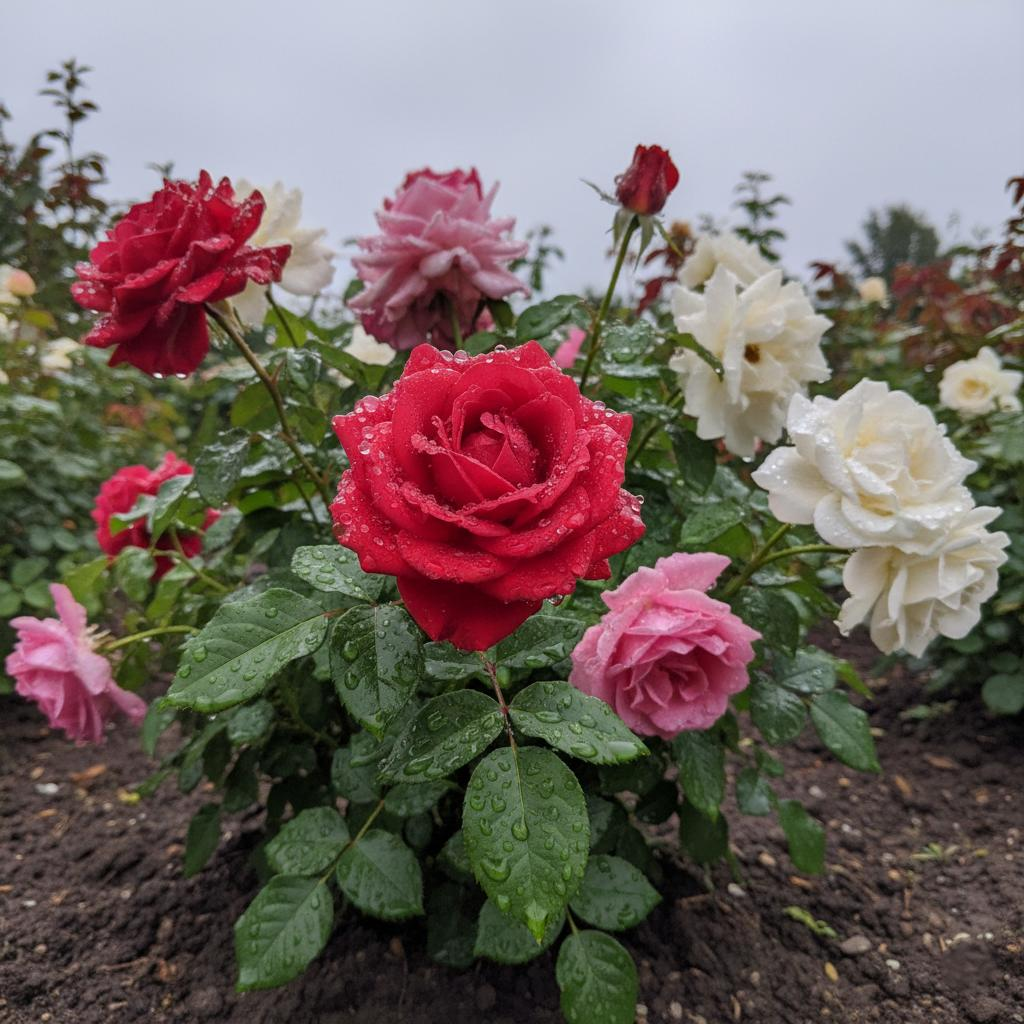rose: (327, 337, 645, 653), (68, 167, 290, 377), (566, 549, 762, 740)
